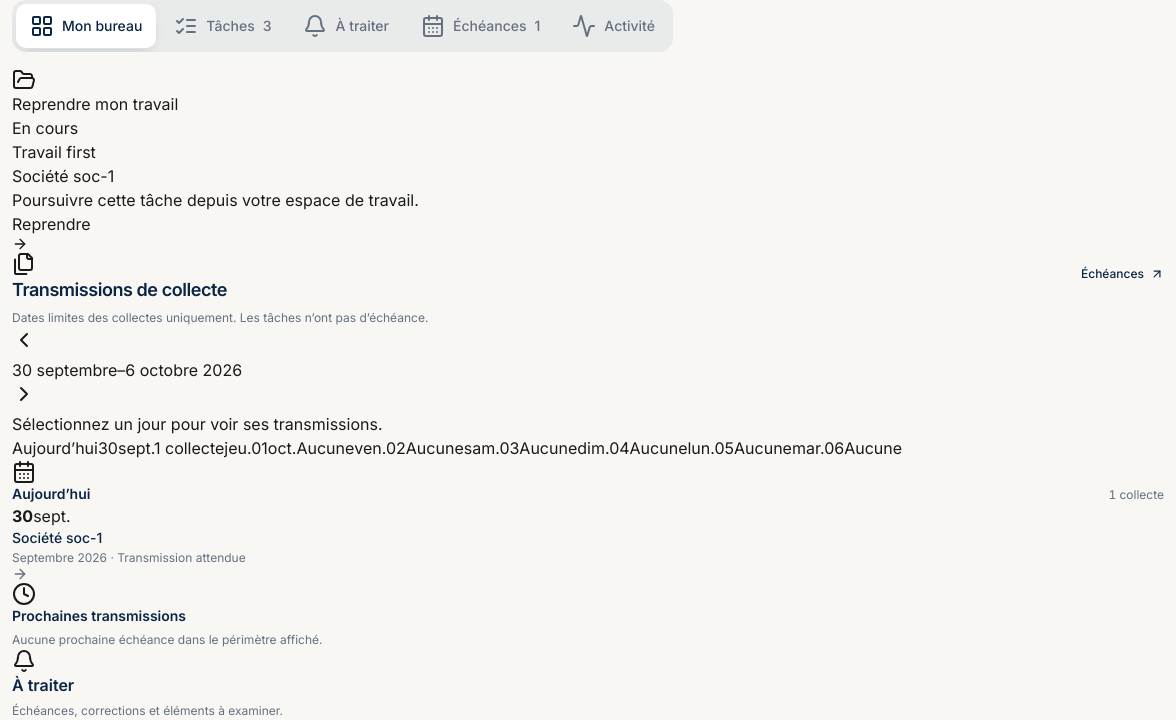
Scenario: Daily Workspace UI contract › limits the dossier composition to Mon bureau and preserves the dedicated views
Press the mouse on the tab "Tâches 3" at [223, 26], box [160,4,285,48]
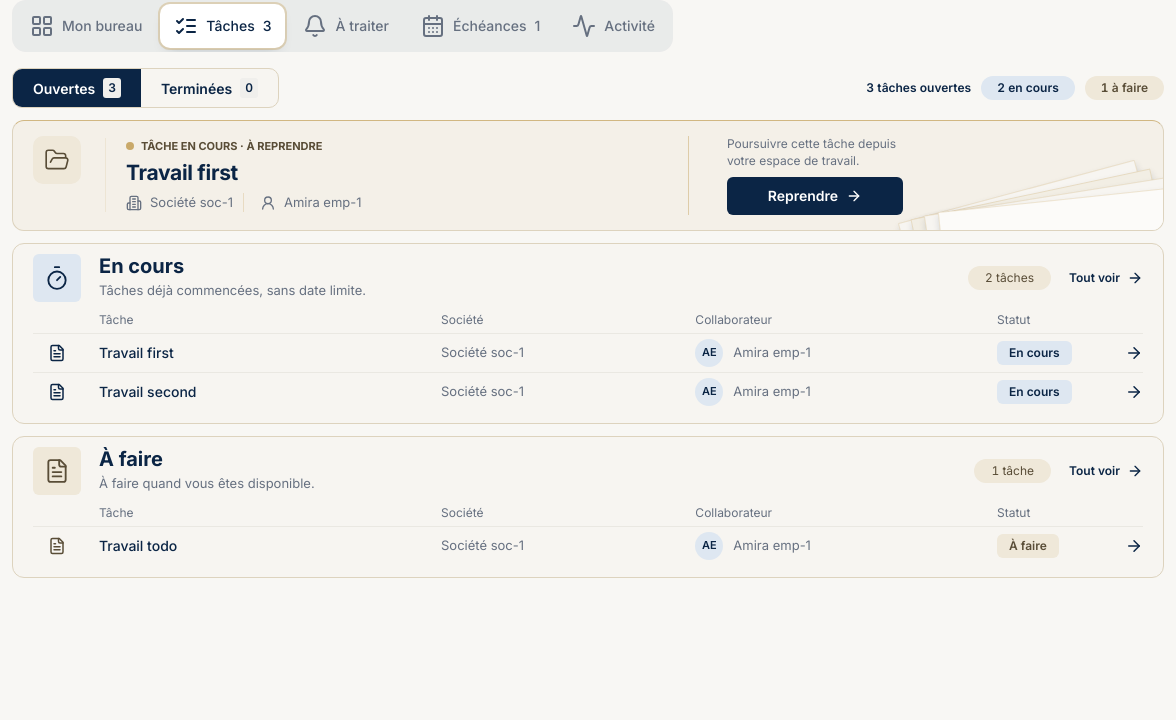
Check: the element with class "dashboard-resume" is gone
Check: the number of panels is 1
Press the mouse on the tab "À traiter" at [346, 26], box [290,4,403,48]
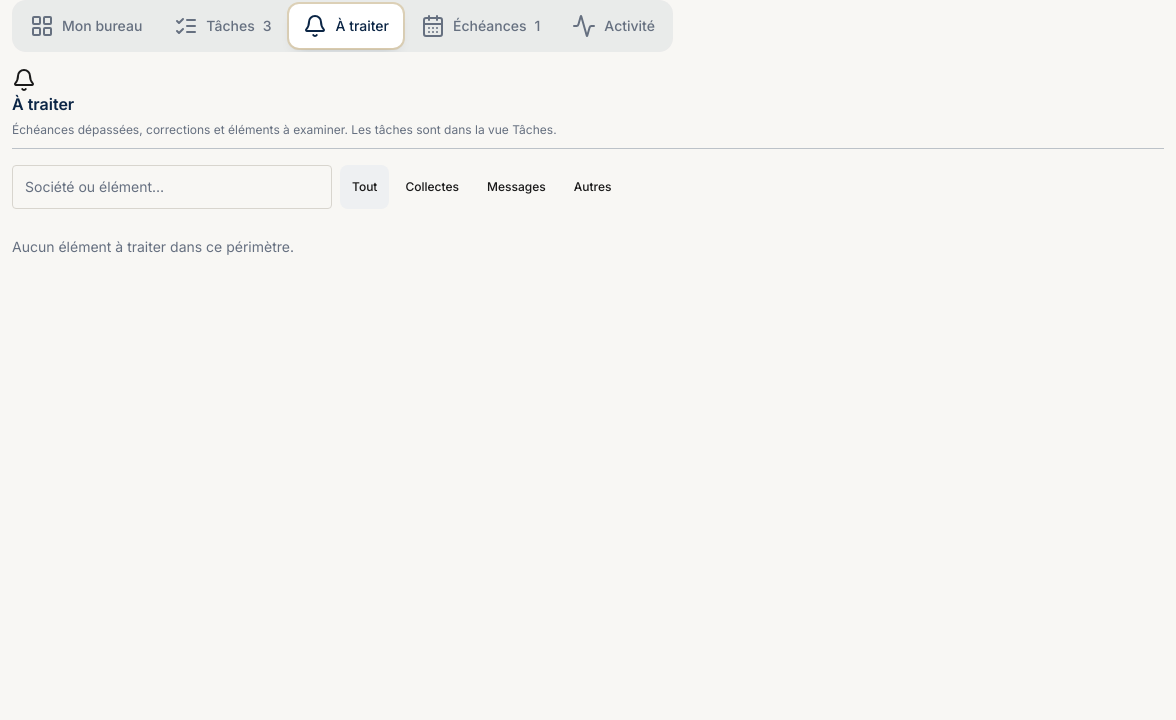
Check: the number of panels is 1, box [12,68,1164,272]
Press the mouse on the tab "Échéances 1" at [481, 26], box [407,4,554,48]
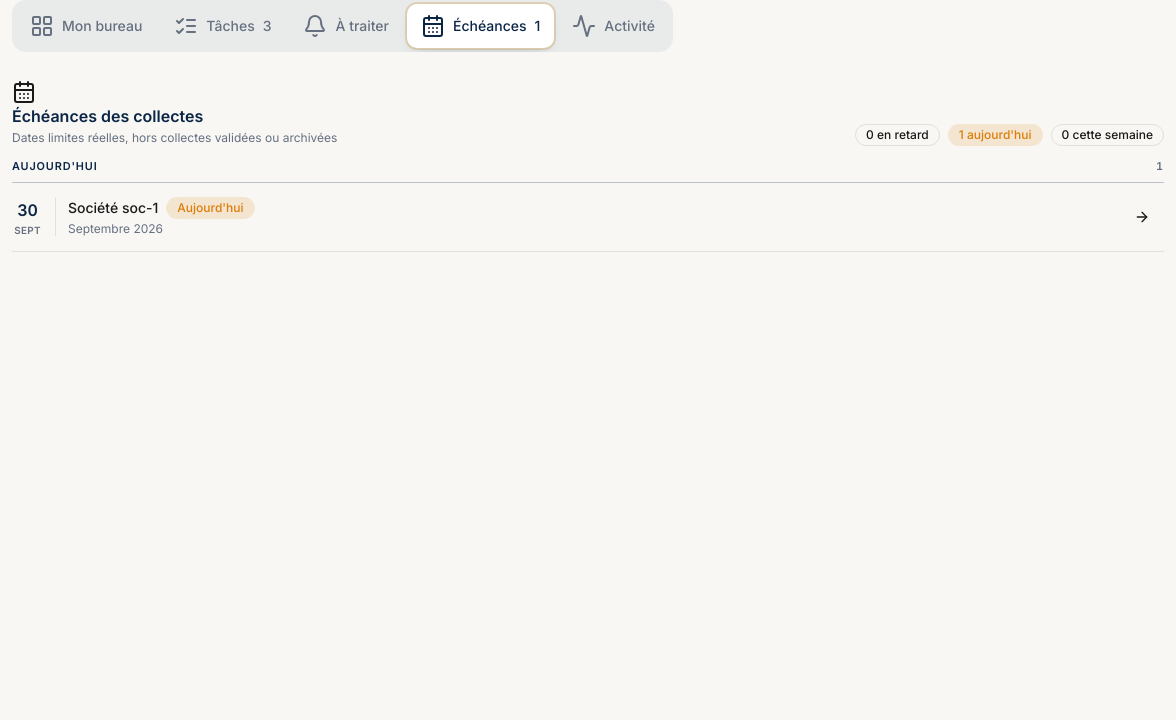
Check: the number of panels is 1, box [12,68,1164,252]
Press the mouse on the tab "Activité" at [614, 26], box [558,4,669,48]
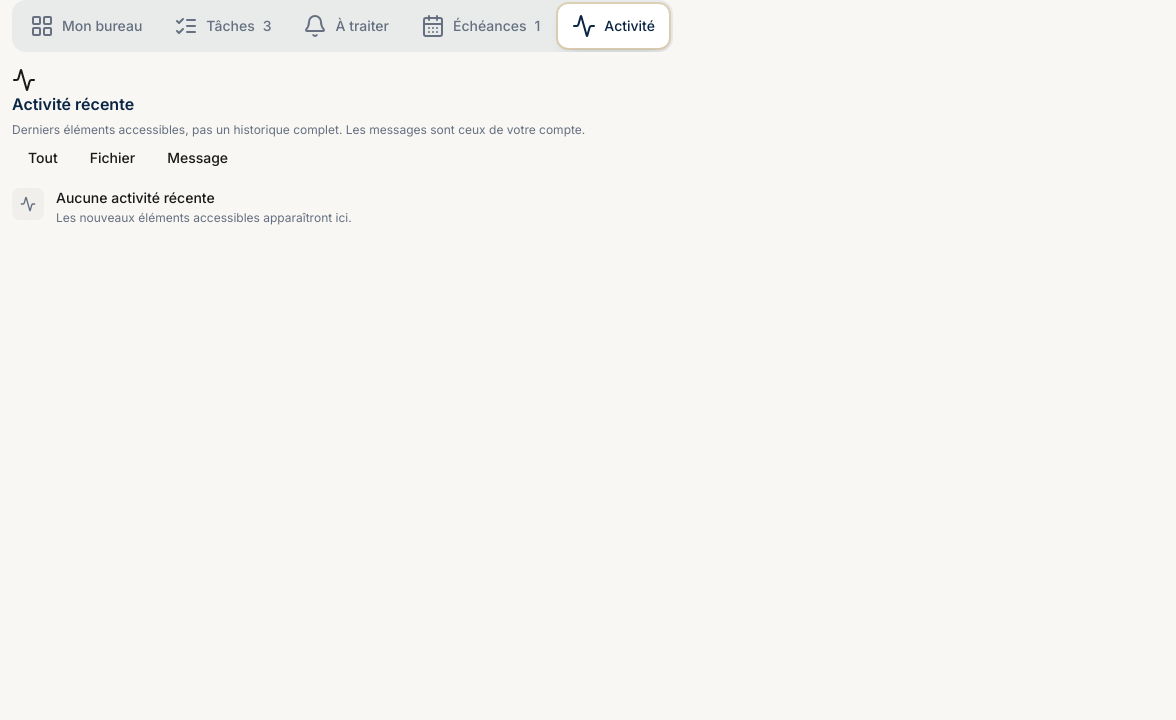
Check: the number of panels is 1, box [12,68,585,224]
Press the mouse on the tab "Mon bureau" at [86, 26], box [16,4,156,48]
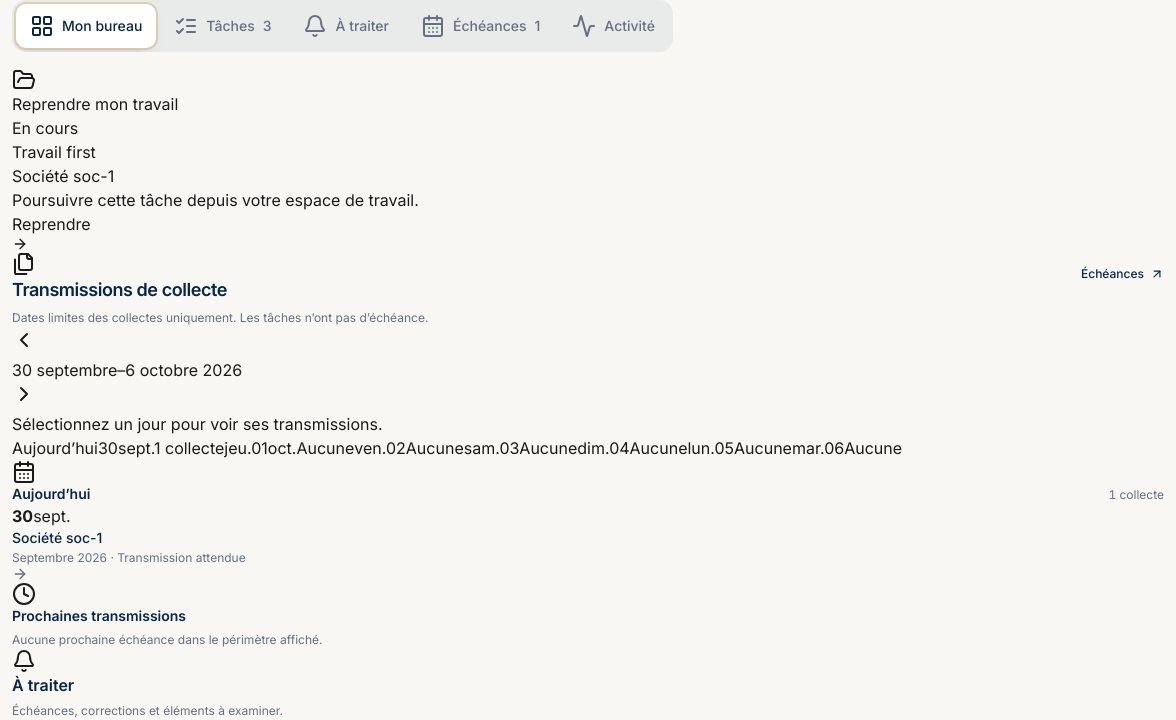
Check: the number of elements with class "dashboard-resume" is 1, box [12,68,419,252]
